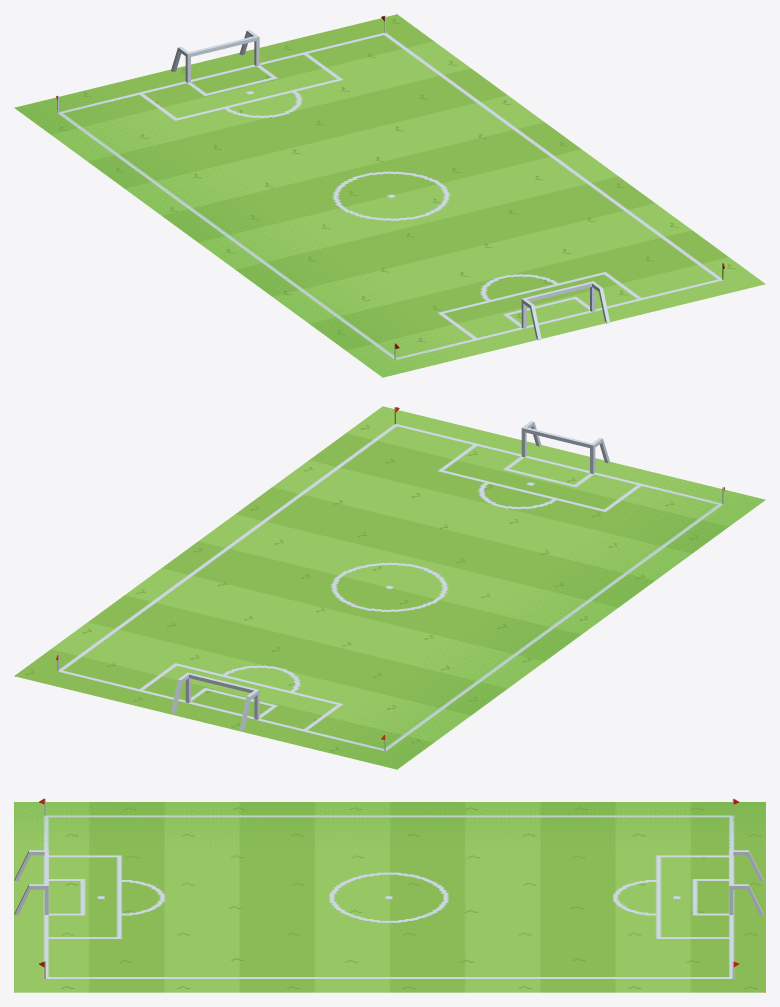
The model's file is Cancha .fbx.
3 renders of one model, top to bottom at view 1: azimuth 30°, elevation 25°; view 2: azimuth 150°, elevation 25°; view 3: azimuth 270°, elevation 25°, orthographic.
Parts seen in each view (by area): view 1: Cancha.001; view 2: Cancha.001; view 3: Cancha.001.
Part boxes in pixels (bbox=[...]): Cancha.001: bbox=[14, 14, 765, 377]; Cancha.001: bbox=[14, 406, 765, 769]; Cancha.001: bbox=[14, 798, 765, 992].
Bounding box in the file's own units: 31.46 × 52.44 × 2.38.
Materials: 1 (1 with a texture image).
